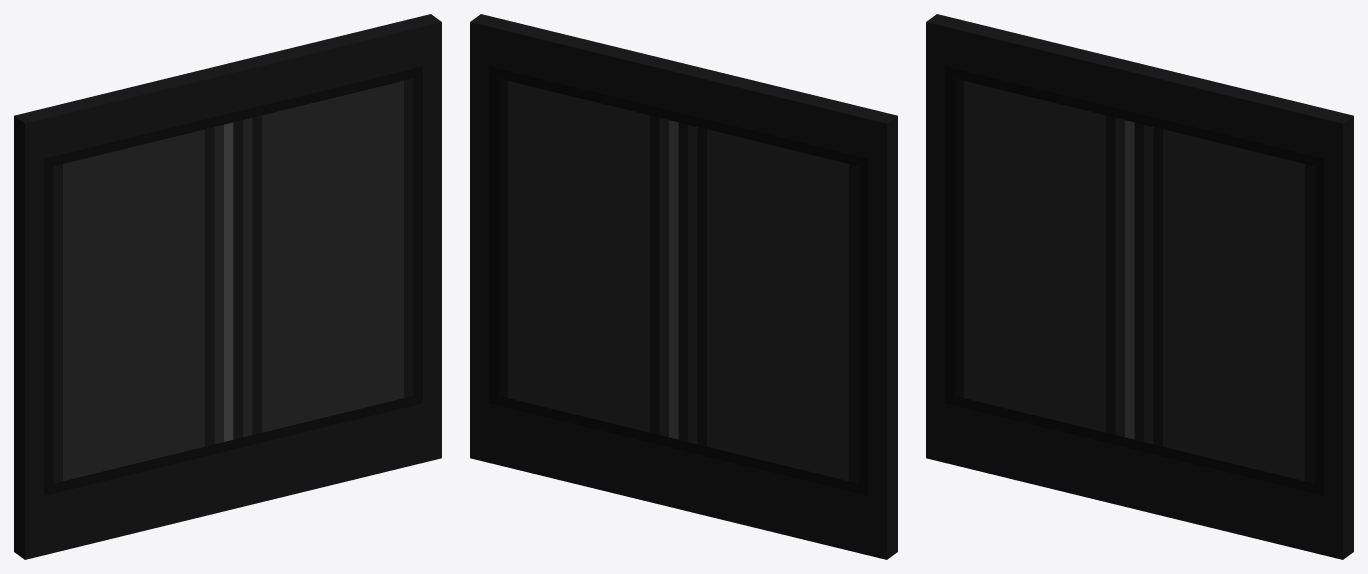
The model's file is mesh_locked_door.obj.
The picture shows the model from 3 angles, left to right: view 1: azimuth 30°, elevation 25°; view 2: azimuth 150°, elevation 25°; view 3: azimuth 330°, elevation 25°; orthographic projection.
Size of the model in its own units: 4.4 by 4.4 by 0.2.
Materials: 1 (1 with a texture image).
